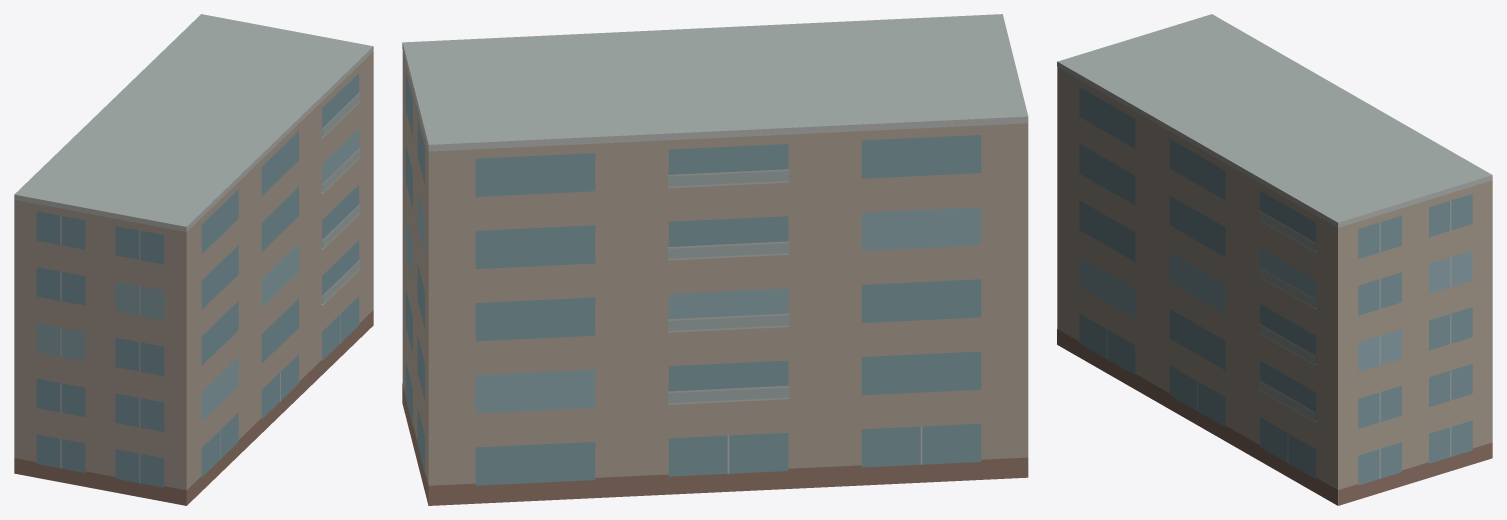
Rendered from survey-upis-32665165.glb.
The picture shows the model from 3 angles, left to right: view 1: azimuth 30°, elevation 25°; view 2: azimuth 150°, elevation 25°; view 3: azimuth 270°, elevation 25°; orthographic projection. The views are drawn at different scales.
Visible parts, largest first — view 1: survey-upis-32665165.tmp; view 2: survey-upis-32665165.tmp; view 3: survey-upis-32665165.tmp.
Part boxes in pixels (x1=…): survey-upis-32665165.tmp: x1=14, y1=14, x2=373, y2=505; survey-upis-32665165.tmp: x1=402, y1=14, x2=1028, y2=505; survey-upis-32665165.tmp: x1=1057, y1=14, x2=1492, y2=505.
Bounding box in the file's own units: 20.96 × 13.25 × 18.48.
